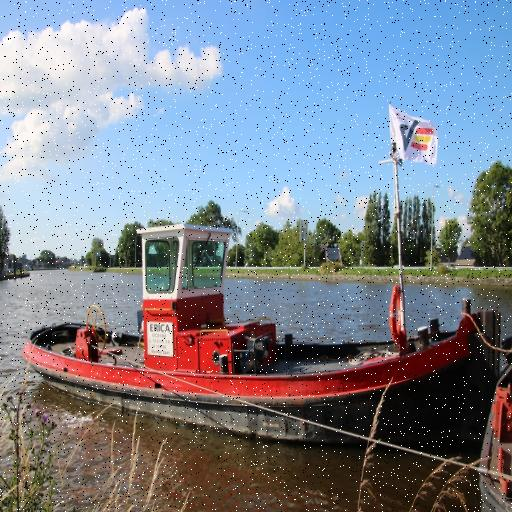tugboat: (19, 201, 506, 489)
